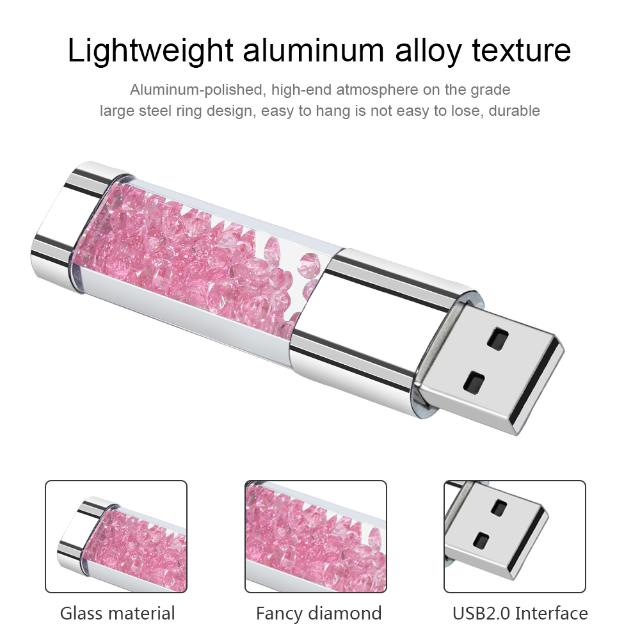USB-Flash-Drive: (30, 164, 564, 436)
